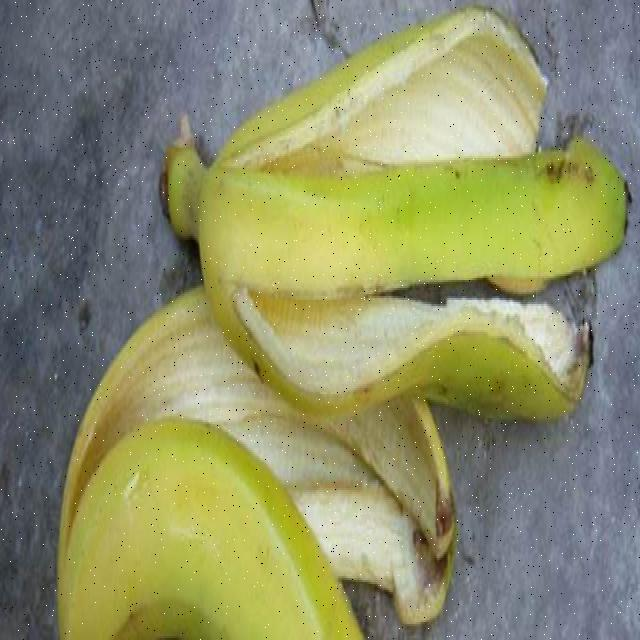banana-peel: (53, 4, 628, 639)
